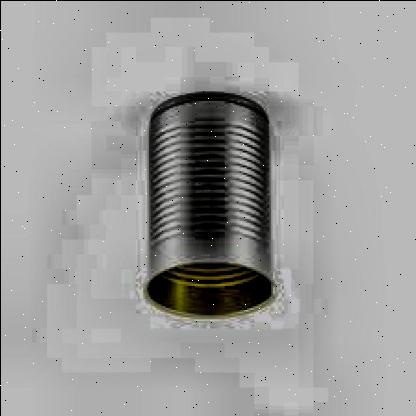Can: (137, 86, 283, 326)
